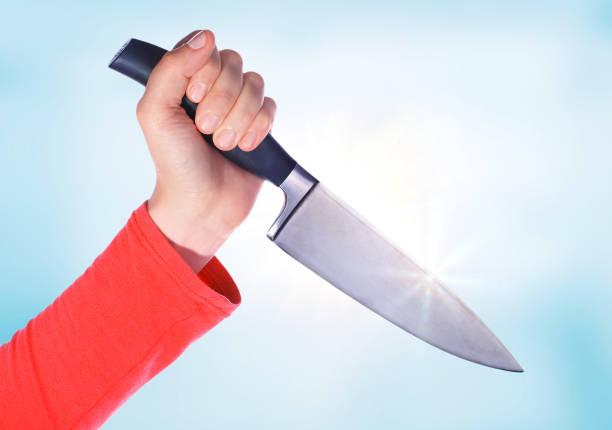knife: (105, 36, 525, 375)
